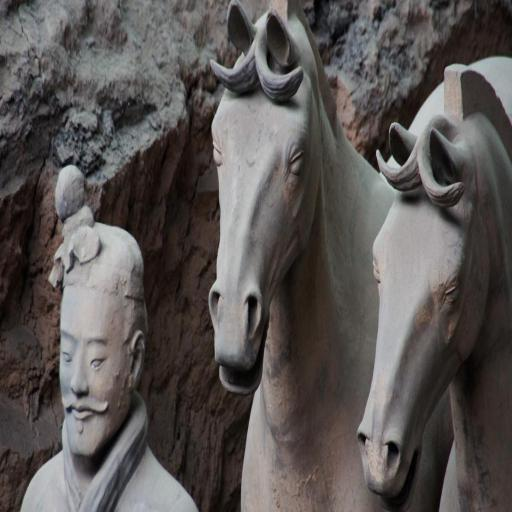horse: (209, 0, 455, 511), (356, 52, 512, 512)
